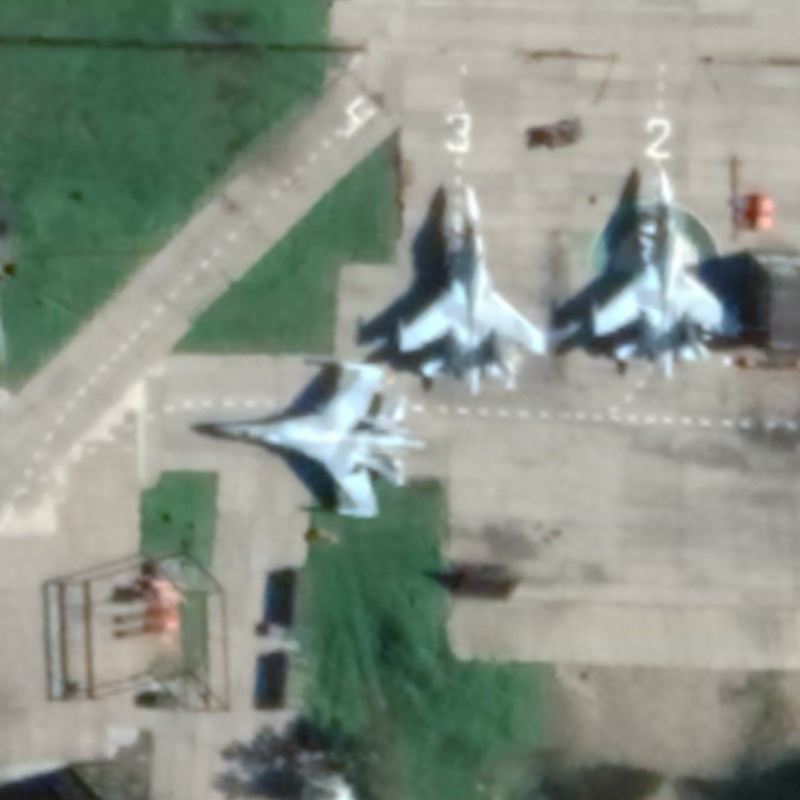A1: (208, 359, 430, 520), (584, 162, 745, 381), (391, 182, 550, 397)
